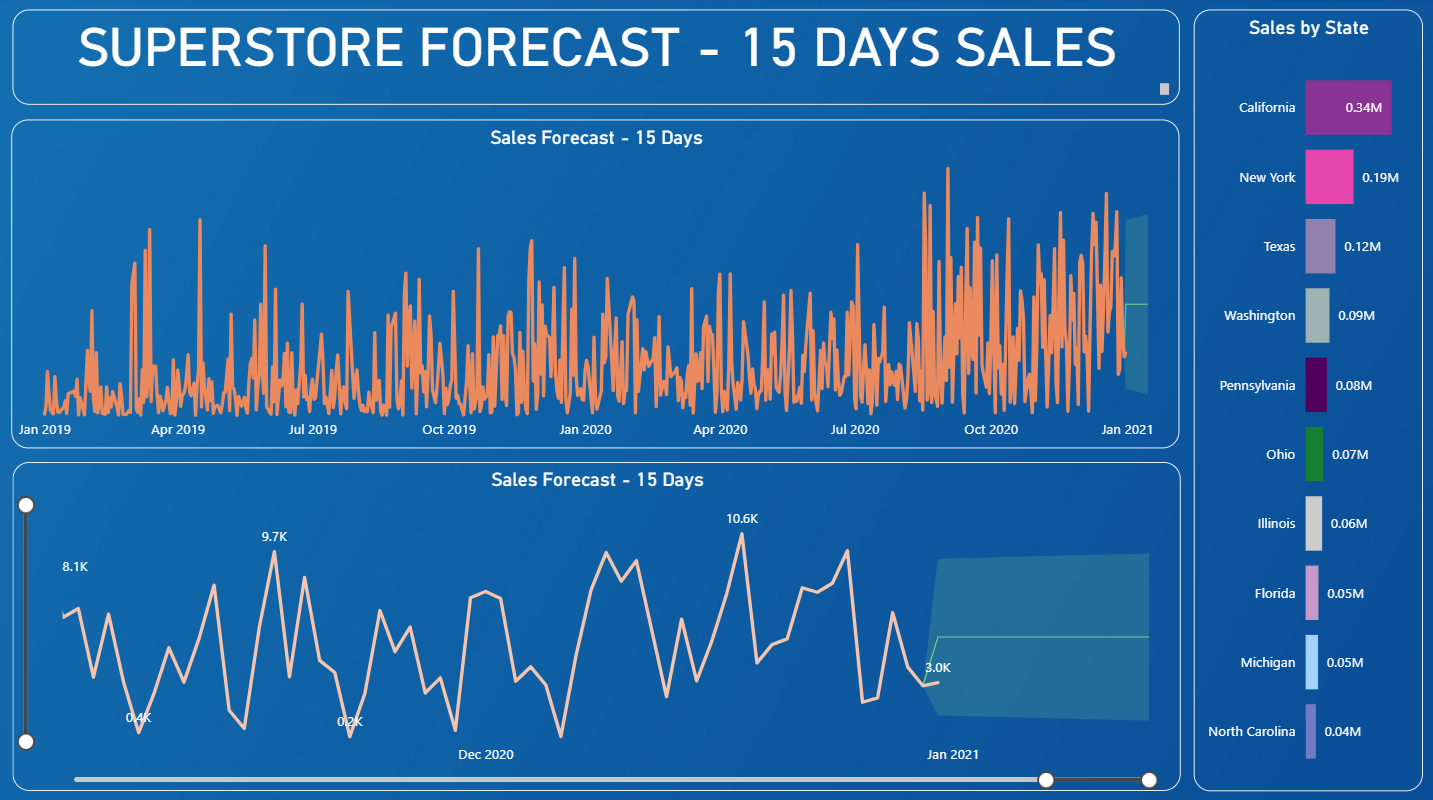

What the dashboard file says about the page in this screenshot:
{"tool":"powerbi","page":{"name":"Sales Forecasting","canvas":[1280,720],"ordinal":1},"visuals":[{"type":"lineChart","title":"Sales Forecast - 15 Days","fields":{"Y":["Sum(Sheet1.Sales)"],"Category":["Sheet1.Order Date"]},"box":[10.5,108.8,1040.3,292.4],"z":0},{"type":"lineChart","title":" Sales Forecast - 15 Days","fields":{"Y":["Sum(Sheet1.Sales)"],"Category":["Sheet1.Order Date"]},"box":[10.6,414.1,1040.2,292.9],"z":1000},{"type":"textbox","title":"SUPERSTORE FORECAST - 15 DAYS SALES","box":[10.8,10.8,1039.1,85.1],"z":2000},{"type":"clusteredBarChart","title":"Sales by State","fields":{"Y":["Sum(Sheet1.Sales)"],"Category":["Sheet1.State"]},"box":[1063.1,10.8,203.7,696.3],"z":3000}]}

Visuals, with their boxes in screenshot pixels (x1, y1, x2, y2), scaled from the page's 1280x720 canvas onto the 1433x800 screenshot:
"Sales Forecast - 15 Days" lineChart: BBox(12, 121, 1176, 446)
" Sales Forecast - 15 Days" lineChart: BBox(12, 460, 1176, 786)
"SUPERSTORE FORECAST - 15 DAYS SALES" textbox: BBox(12, 12, 1175, 107)
"Sales by State" clusteredBarChart: BBox(1190, 12, 1418, 786)
